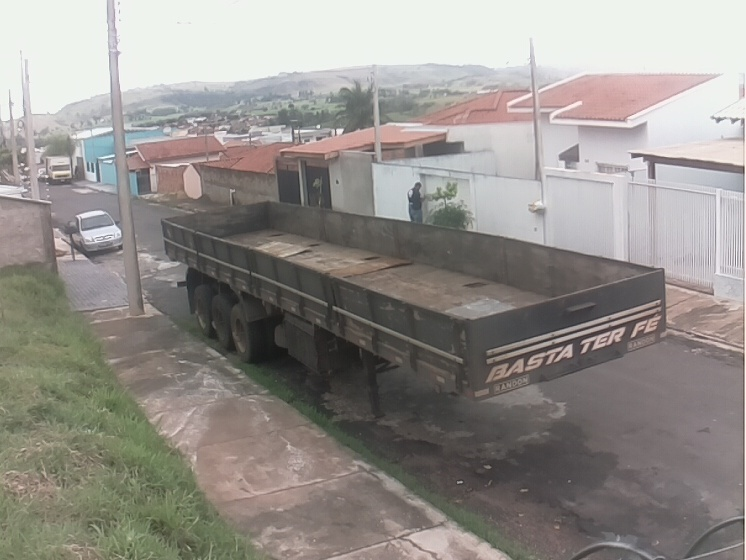person: (406, 181, 425, 223)
